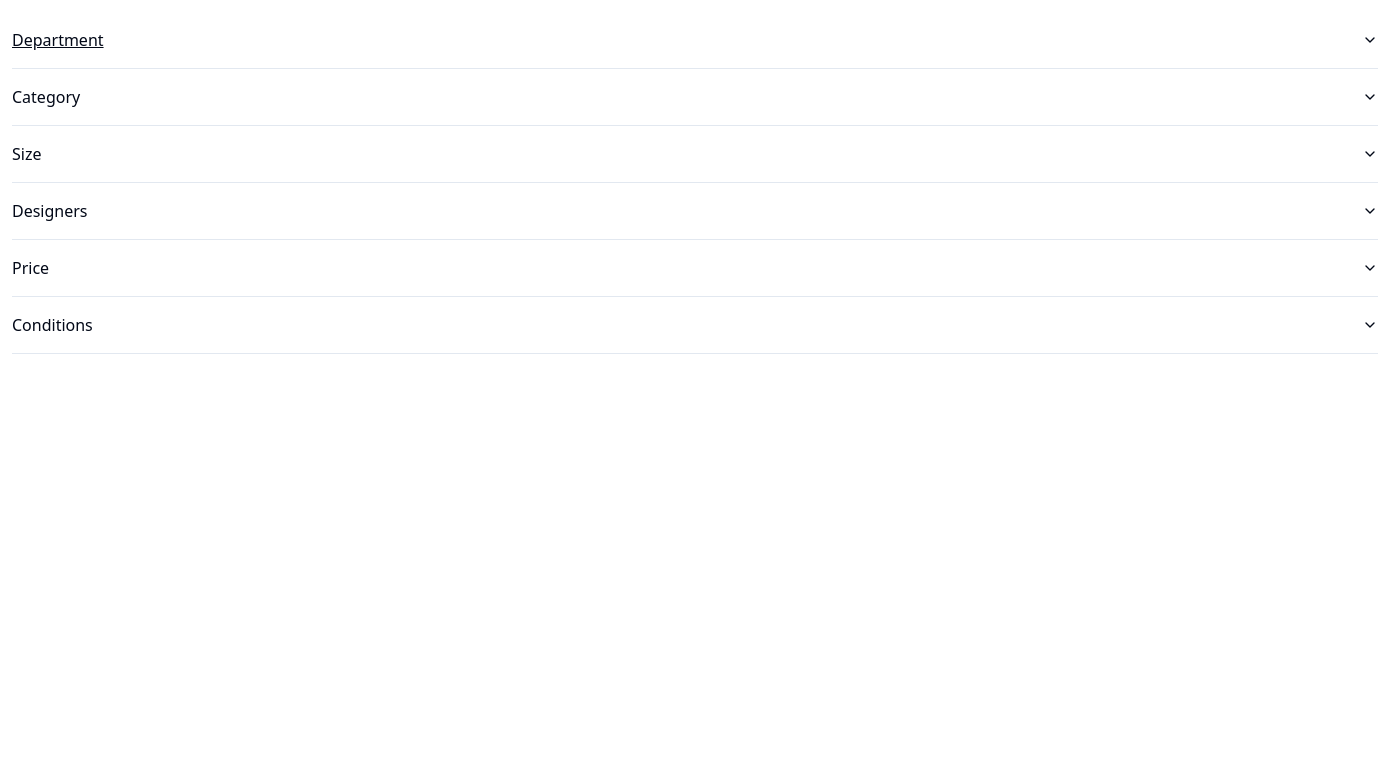
Check/Uncheck 'All Categories checkbox' indeed checks/uncheck all categories
What coordinates should you click on to do the following:
click the button "Category"
I would click on:
 (46, 97)
Its box is x1=12 y1=69 x2=1378 y2=125.
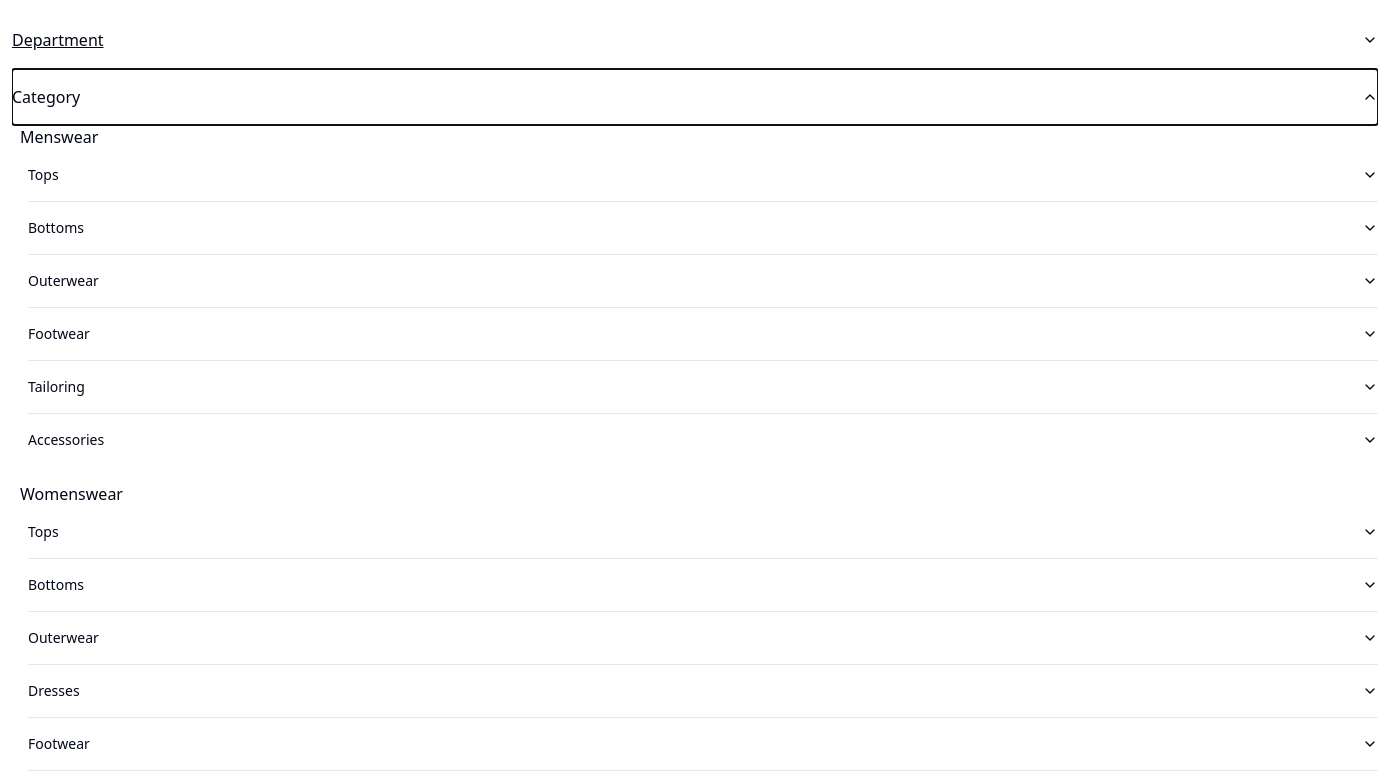
What coordinates should you click on to do the following:
click the button with test id "Menswear-Tops"
I would click on:
 (43, 174)
Its box is x1=28 y1=149 x2=1378 y2=201.
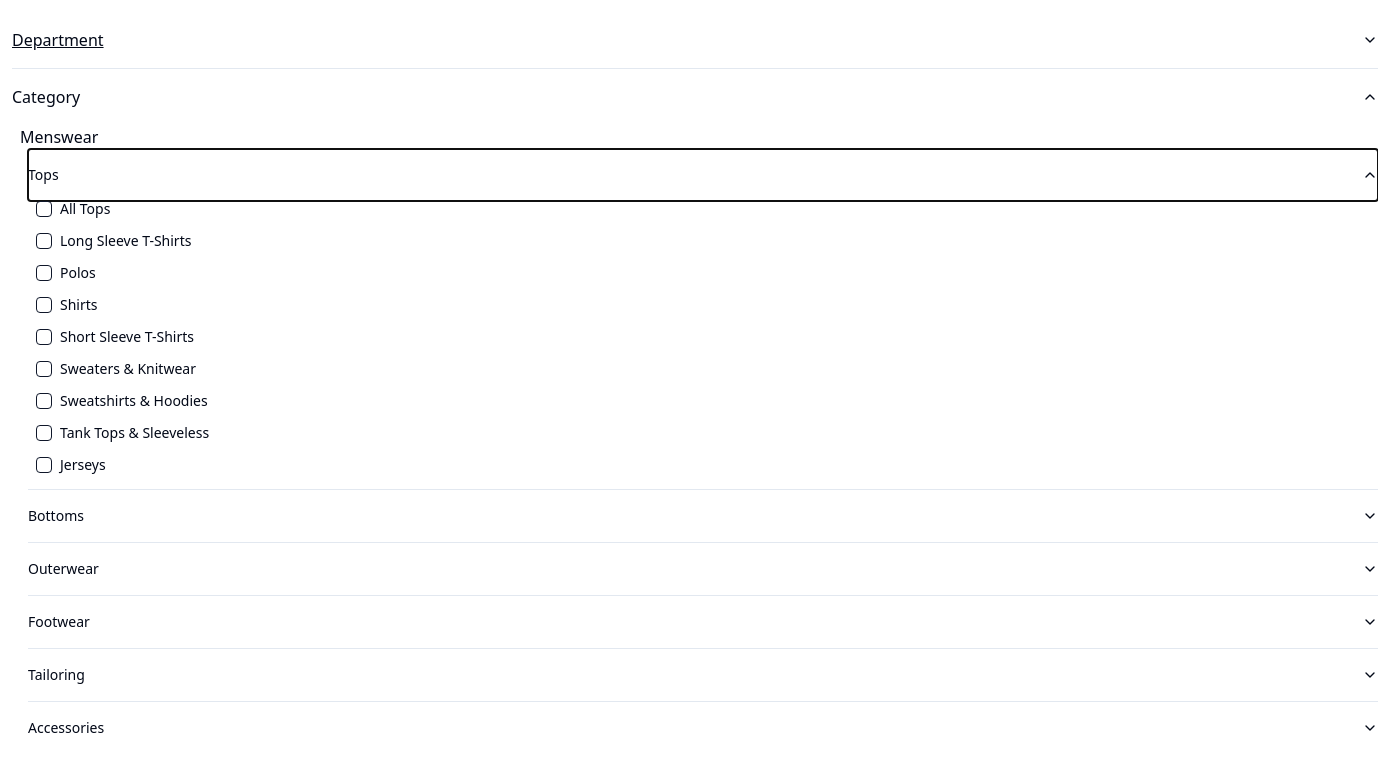
What coordinates should you click on to do the following:
click the checkbox named "all tops" next to "All"
I would click on:
 (44, 209)
Its box is x1=36 y1=201 x2=52 y2=217.
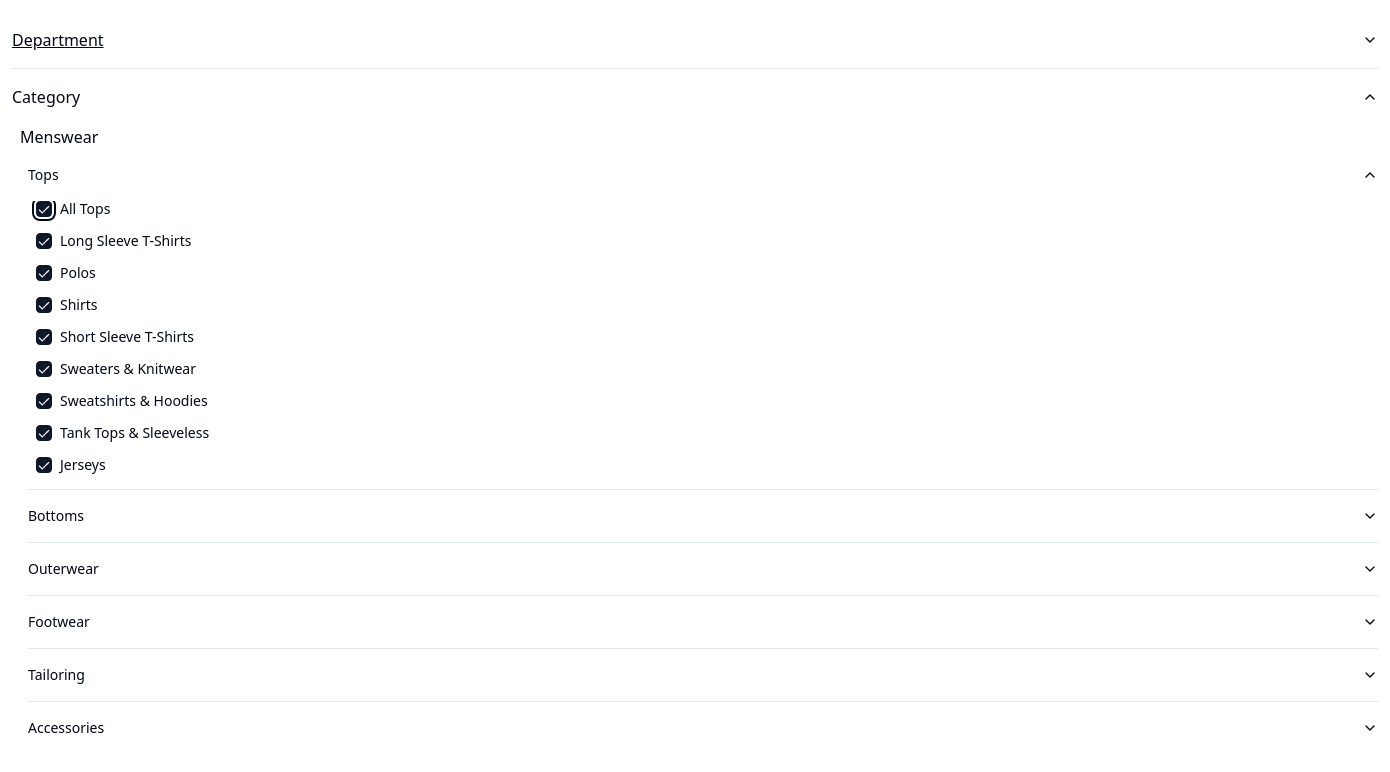
Now the checkbox named "Long Sleeve T-Shirts" next to "Long Sleeve T-Shirts" is checked, box x1=36 y1=233 x2=52 y2=249
Now the checkbox named "Polos" next to "Polos" is checked, box x1=36 y1=265 x2=52 y2=281
Now the 4th checkbox named "Shirts" is checked, box x1=36 y1=297 x2=52 y2=313
What coordinates should you click on to do the following:
click the checkbox named "all tops" next to "All"
I would click on:
 (44, 209)
Its box is x1=36 y1=201 x2=52 y2=217.
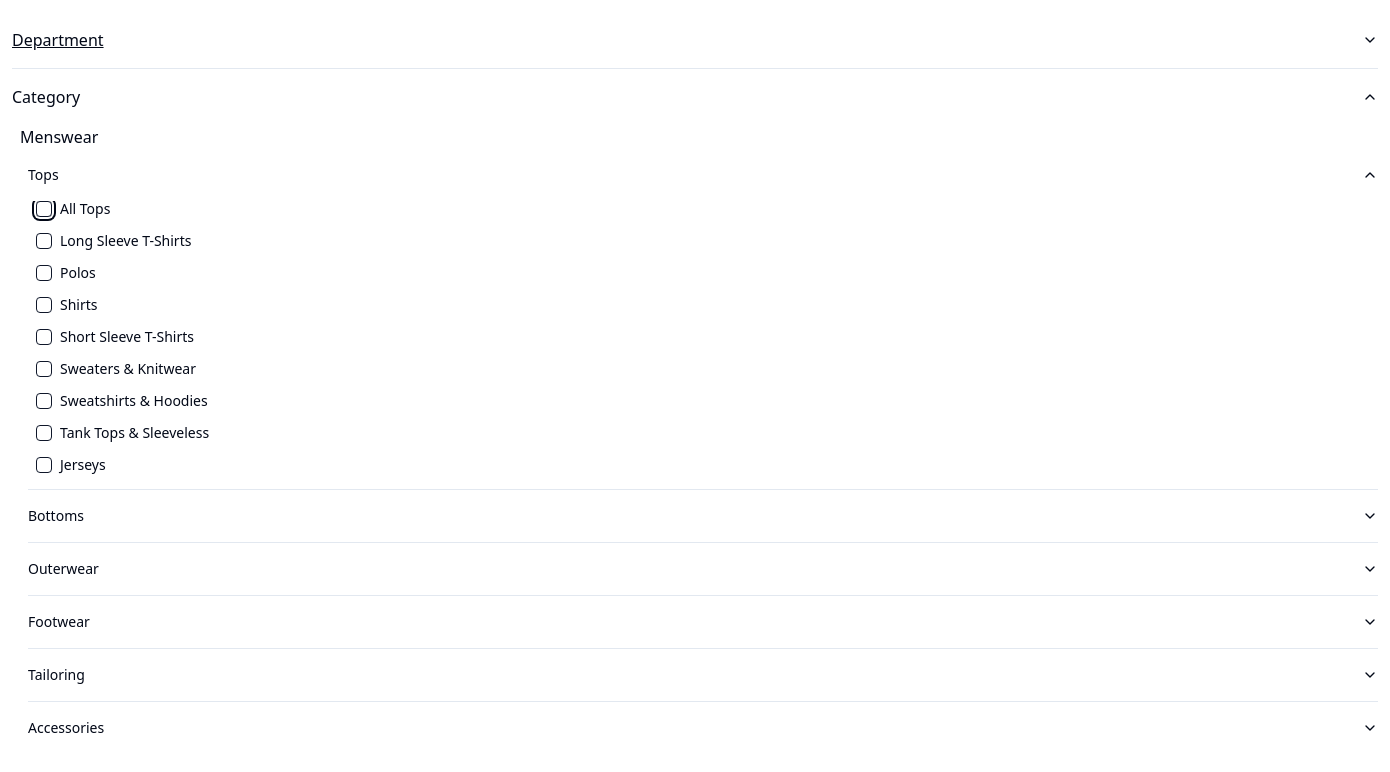
Now the checkbox named "Long Sleeve T-Shirts" next to "Long Sleeve T-Shirts" is not checked, box x1=36 y1=233 x2=52 y2=249
Now the checkbox named "Polos" next to "Polos" is not checked, box x1=36 y1=265 x2=52 y2=281
Now the 4th checkbox named "Shirts" is not checked, box x1=36 y1=297 x2=52 y2=313
